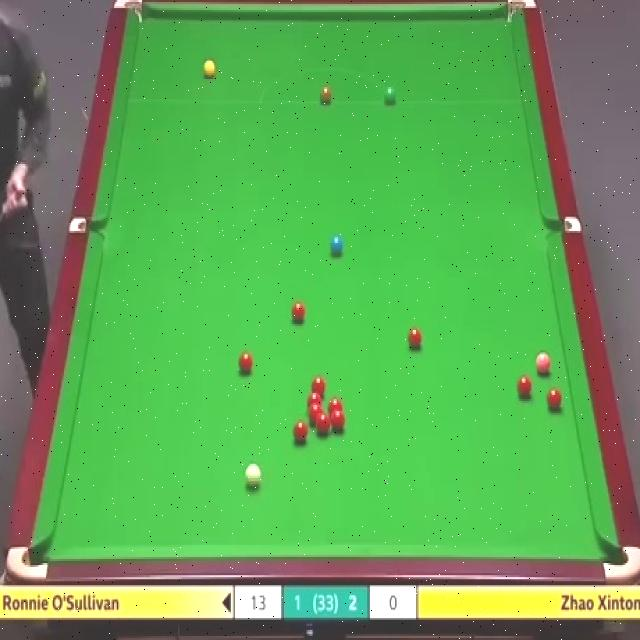blue-ball: (329, 234, 344, 255)
brown-ball: (319, 85, 332, 105)
green-ball: (384, 87, 396, 104)
pink-ball: (535, 351, 551, 376)
red-ball: (238, 350, 255, 378), (544, 388, 562, 414), (291, 420, 308, 444), (518, 375, 535, 399), (330, 410, 346, 434), (408, 326, 423, 351), (291, 302, 306, 324), (316, 412, 330, 435), (310, 376, 326, 393), (307, 391, 322, 408), (308, 405, 322, 423), (328, 400, 342, 413)
white-ball: (244, 463, 260, 488)
yellow-ball: (203, 60, 217, 81)
